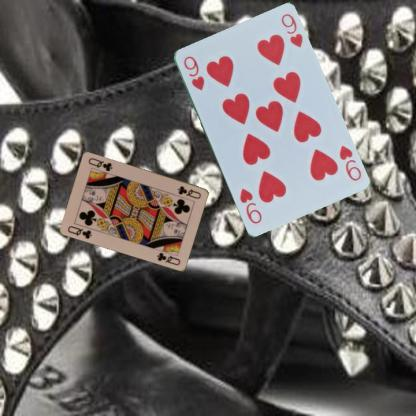9h: (336, 142, 362, 182), (180, 53, 206, 92)
Qc: (65, 223, 94, 240), (175, 183, 202, 200)
